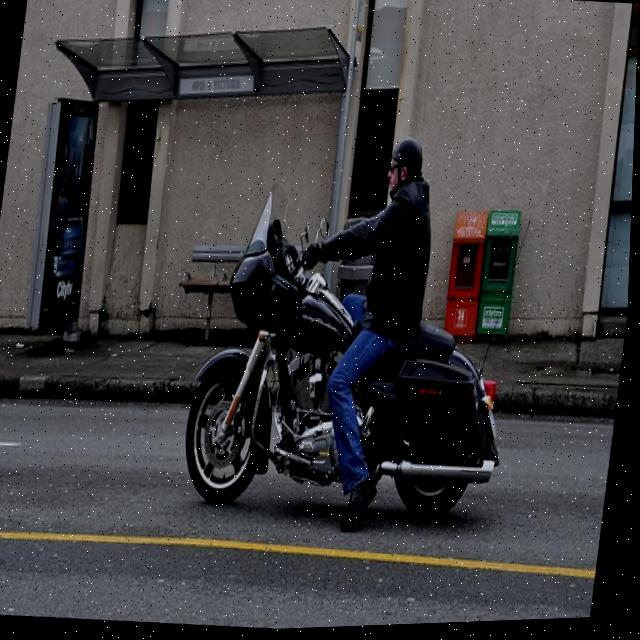motorcycle: (168, 174, 543, 538)
